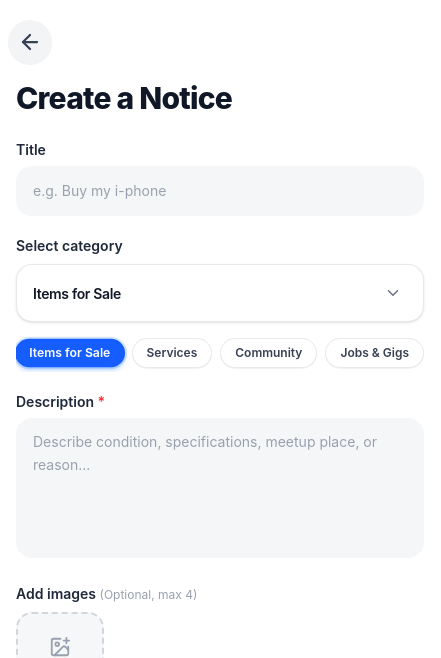
Scenario: CreateNotice Component Tests › validates title minimum length
Type "ab" into the field with placeholder "e.g. Buy my i-phone". click: [220, 191]
box: [16,166,424,216]
(page scrolled)
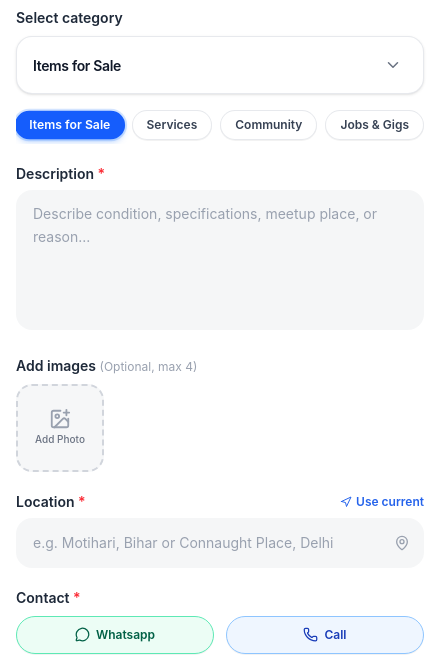
Submit the form
(page scrolled)
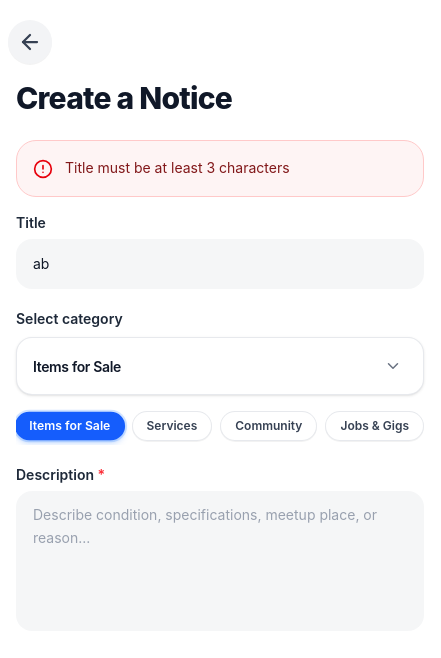
expect the text "Title must be at least 3 characters" is shown: met, box [65,159,290,176]
